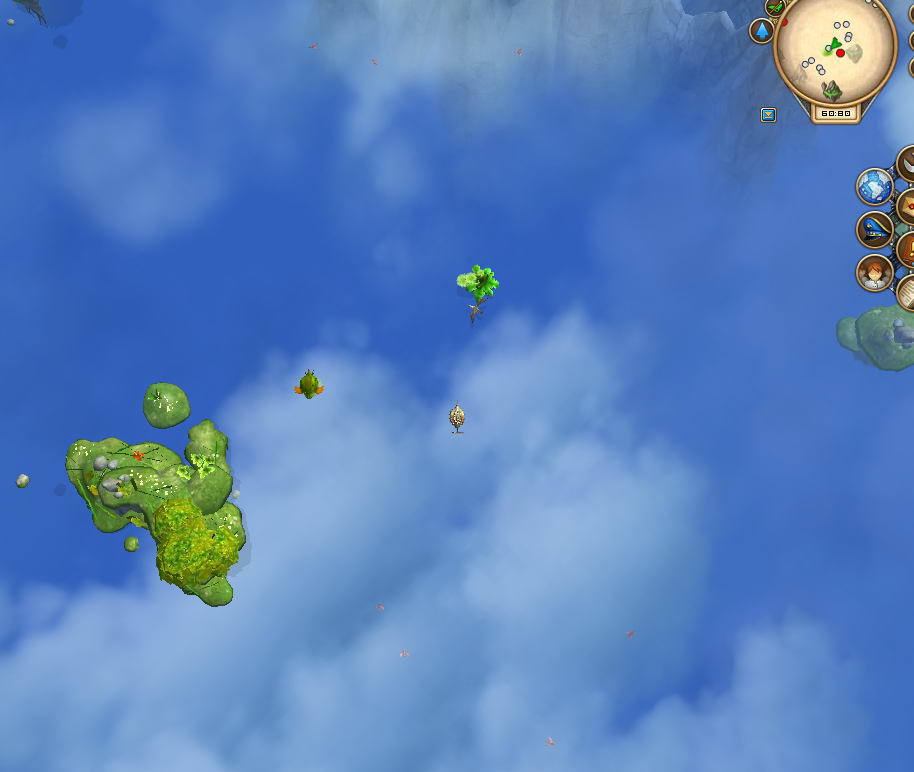dandelion-full: (450, 259, 507, 309)
